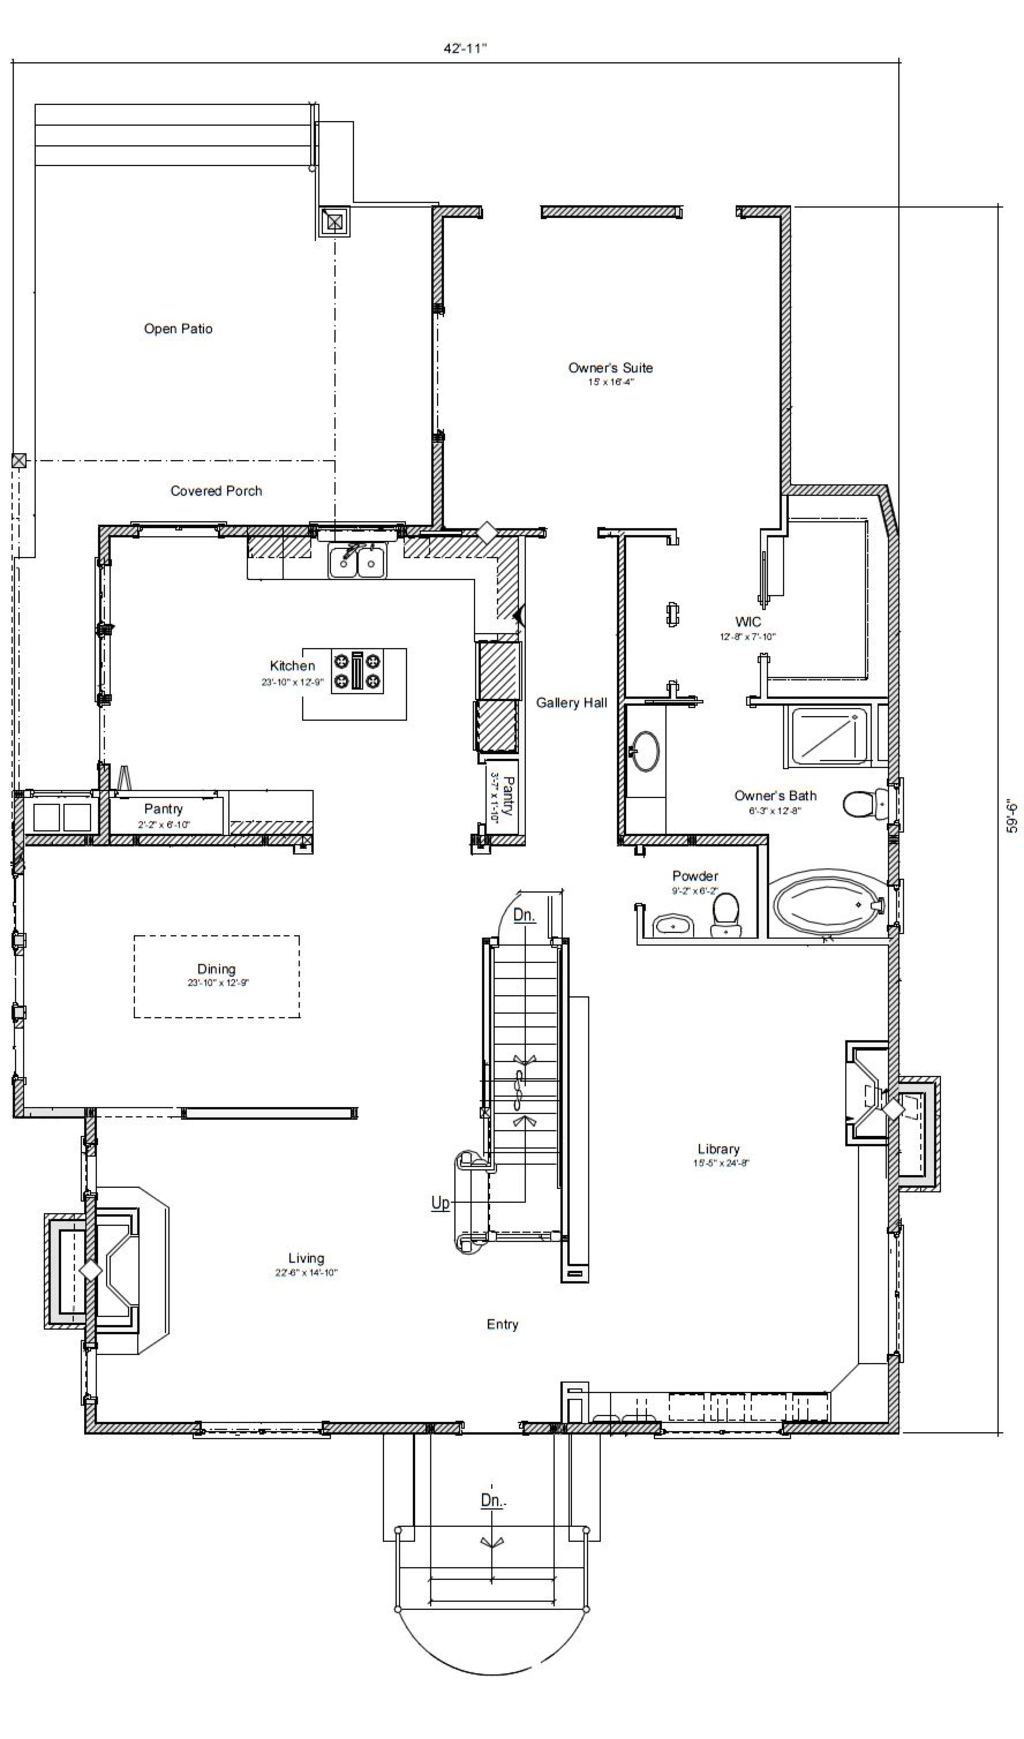kitchen_bar: (291, 648, 414, 725)
large_sink: (822, 781, 898, 825), (708, 881, 740, 937)
small_sink: (622, 696, 667, 806), (641, 902, 703, 943)
stairs: (441, 937, 567, 1258), (375, 1490, 602, 1623)
tub: (764, 857, 900, 941), (788, 704, 879, 775)
twin_sink: (325, 534, 396, 581), (29, 791, 94, 837)
window: (180, 1416, 338, 1449), (87, 563, 119, 699), (11, 869, 29, 1087), (132, 513, 222, 541)
